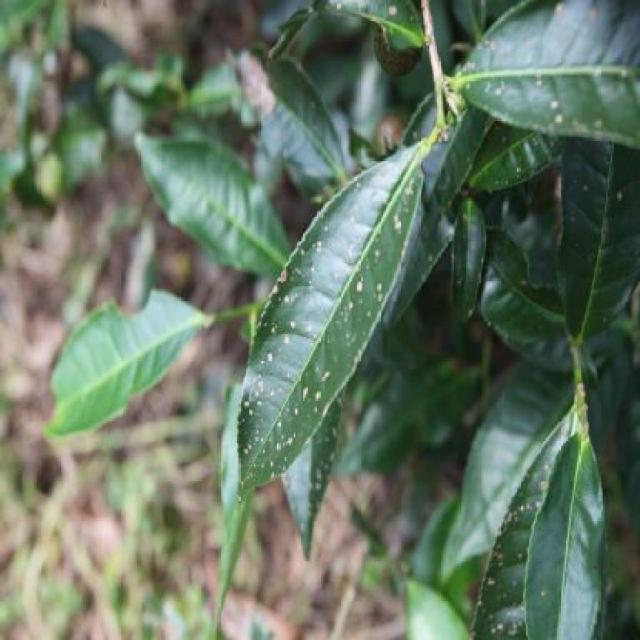Leaf rust of tea: (229, 130, 426, 516)
